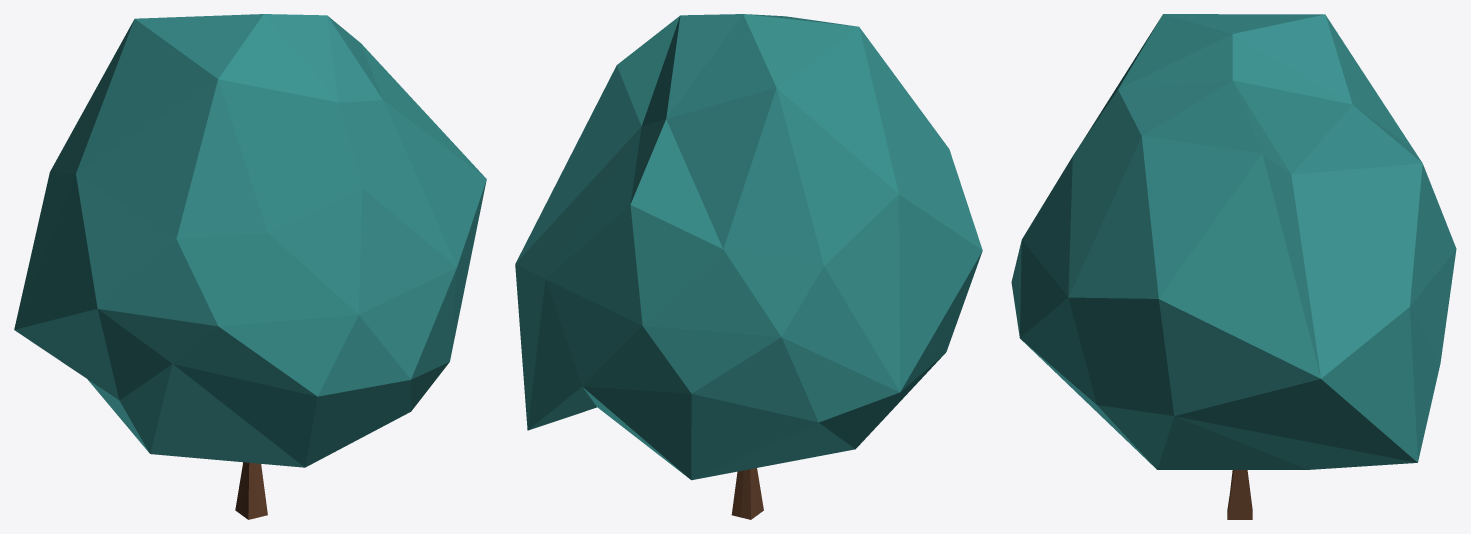
The model's file is Tree_17_Blue.fbx.
3 renders of one model, left to right at view 1: azimuth 30°, elevation 25°; view 2: azimuth 150°, elevation 25°; view 3: azimuth 270°, elevation 25°, orthographic. The views are drawn at different scales.
Visible parts, largest first — view 1: Tree_17_Blue_Part_1, Tree_17_Blue_Part_2; view 2: Tree_17_Blue_Part_1, Tree_17_Blue_Part_2; view 3: Tree_17_Blue_Part_1, Tree_17_Blue_Part_2.
Boxes of the visible parts, left/top/right/bottom form: Tree_17_Blue_Part_1: left=14, top=14, right=486, bottom=467; Tree_17_Blue_Part_2: left=235, top=462, right=267, bottom=519; Tree_17_Blue_Part_1: left=515, top=14, right=982, bottom=480; Tree_17_Blue_Part_2: left=731, top=468, right=763, bottom=519; Tree_17_Blue_Part_1: left=1011, top=14, right=1456, bottom=469; Tree_17_Blue_Part_2: left=1227, top=470, right=1252, bottom=519.
Size of the model in its own units: 639 by 784 by 651.
